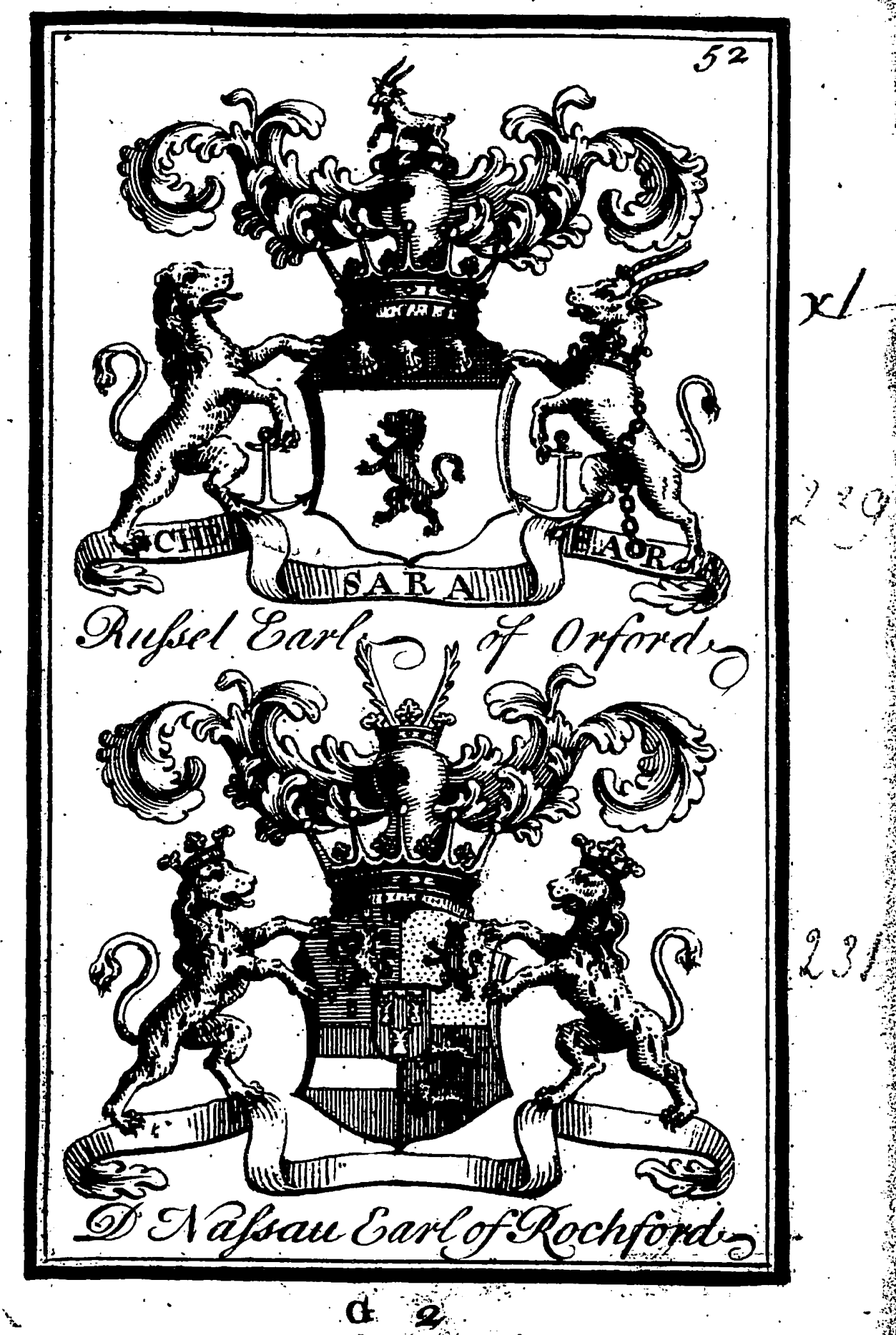coat_of_arms: (52, 31, 718, 664), (68, 659, 738, 1254)
